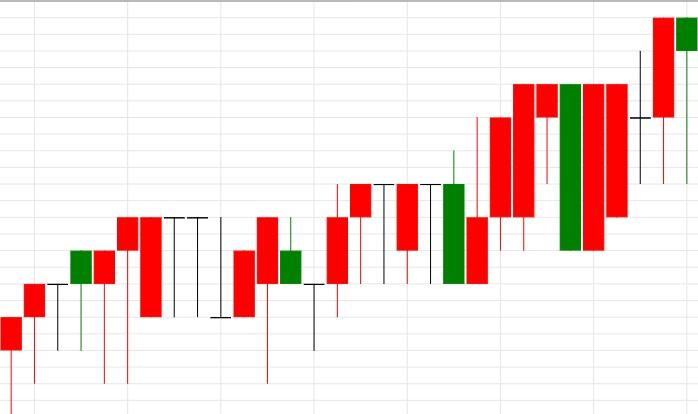bearish_engulfing_fall: (233, 84, 582, 384)
hanging_man_fall: (234, 17, 698, 384), (233, 84, 559, 384), (0, 217, 139, 413)
